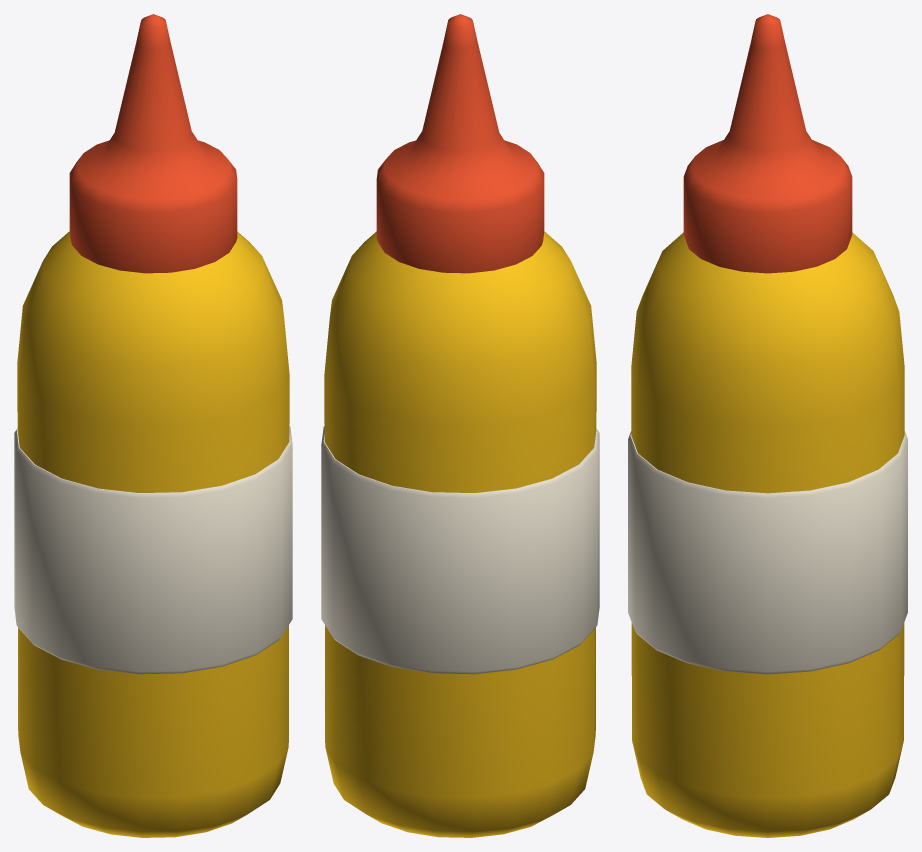
Rendered from Kitchen_SauceBottle.fbx.
3 renders of one model, left to right at view 1: azimuth 30°, elevation 25°; view 2: azimuth 150°, elevation 25°; view 3: azimuth 270°, elevation 25°, orthographic.
Parts seen in each view (by area): view 1: Body, Label, Cap; view 2: Body, Label, Cap; view 3: Body, Label, Cap.
Boxes of the visible parts, x1,y1,x2,y2 form: Body: (17, 231, 289, 837); Label: (14, 426, 292, 674); Cap: (69, 14, 237, 273); Body: (324, 231, 596, 837); Label: (321, 426, 599, 674); Cap: (376, 14, 544, 273); Body: (631, 232, 904, 837); Label: (628, 431, 907, 674); Cap: (683, 14, 852, 273).
Size of the model in its own units: 35.8 by 110 by 35.8.
